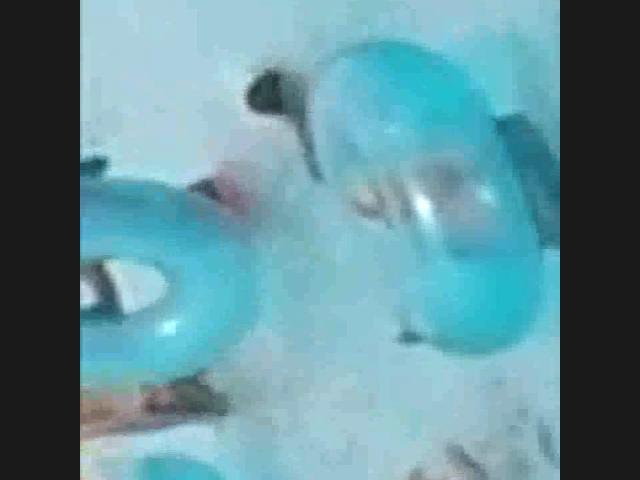drowning: (212, 22, 330, 196)
